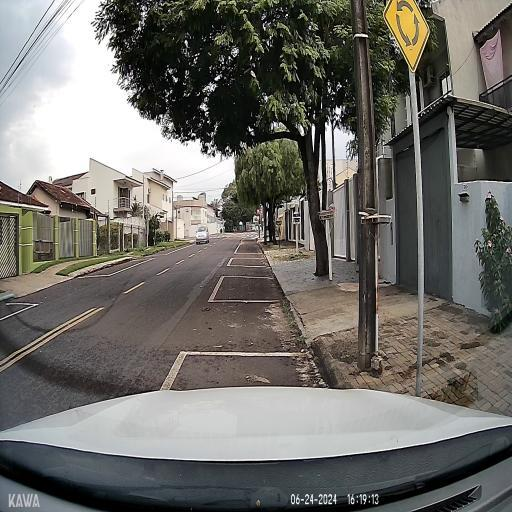A-12: (383, 0, 430, 71)
